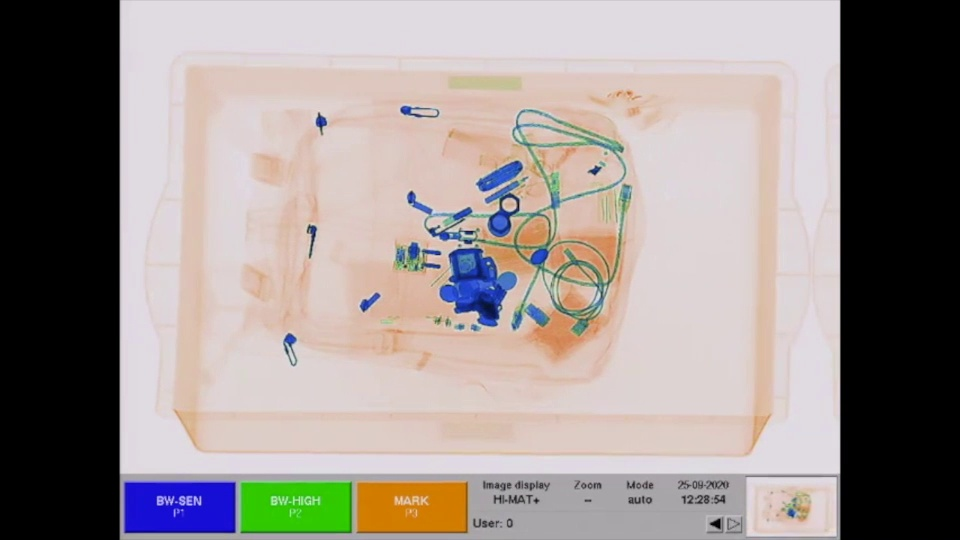tray_img: (141, 38, 813, 459)
